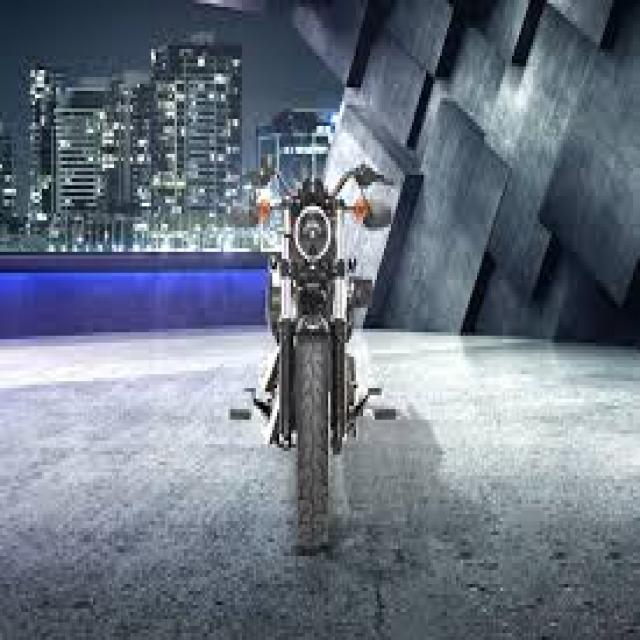MOTORCYCLE: (255, 183, 362, 554)
